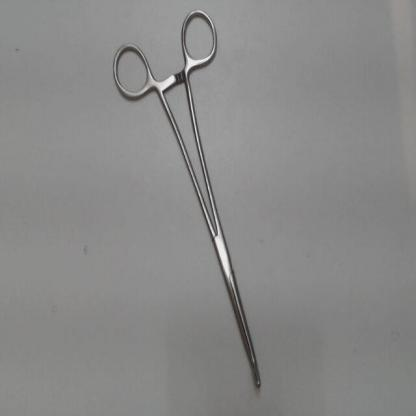Lahey Forceps: (108, 4, 266, 397)
